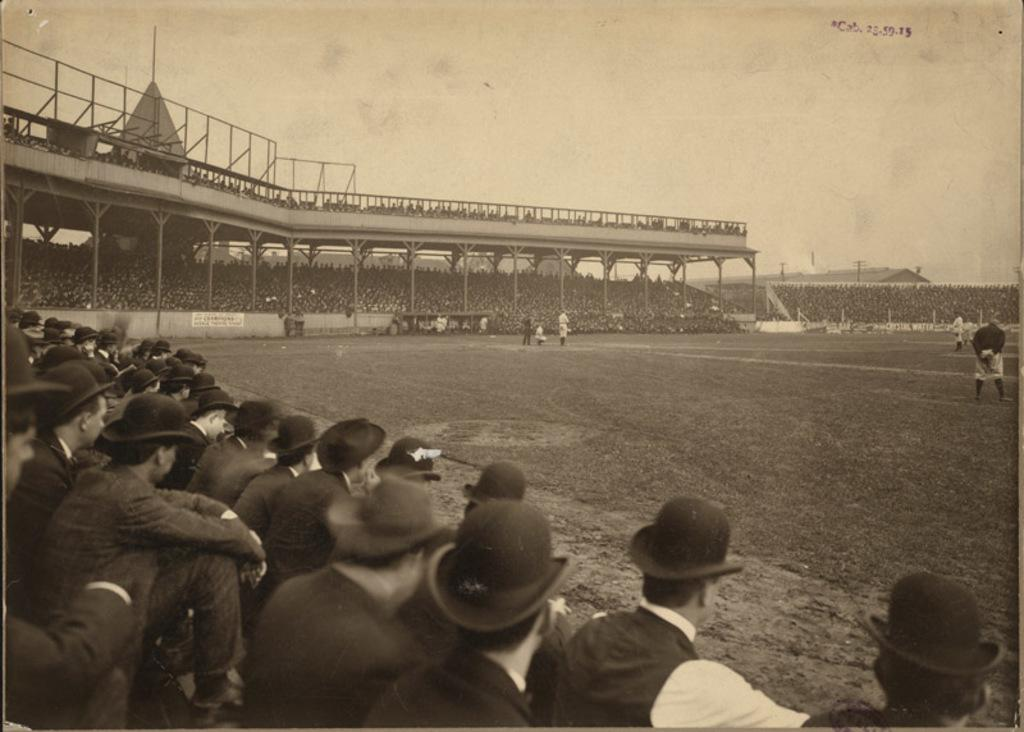Hat: (2, 302, 1007, 682)
